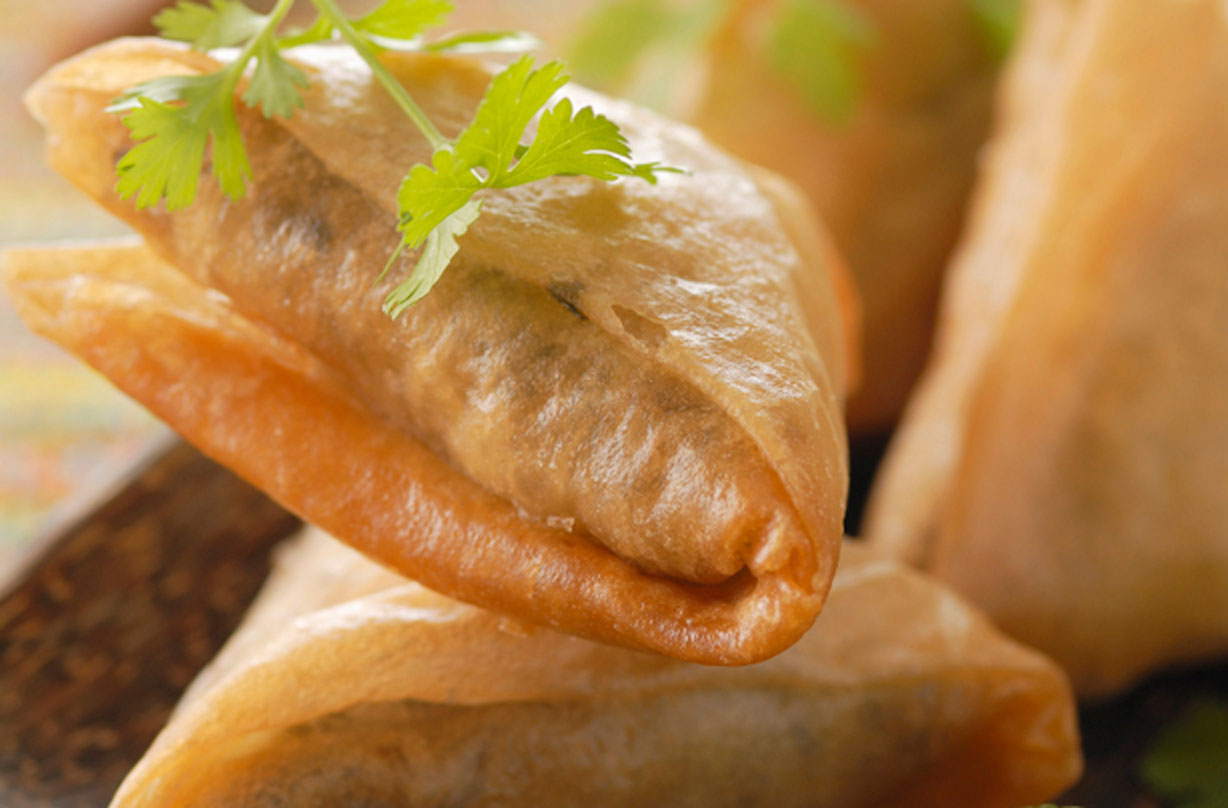samosa: (0, 16, 836, 664)
